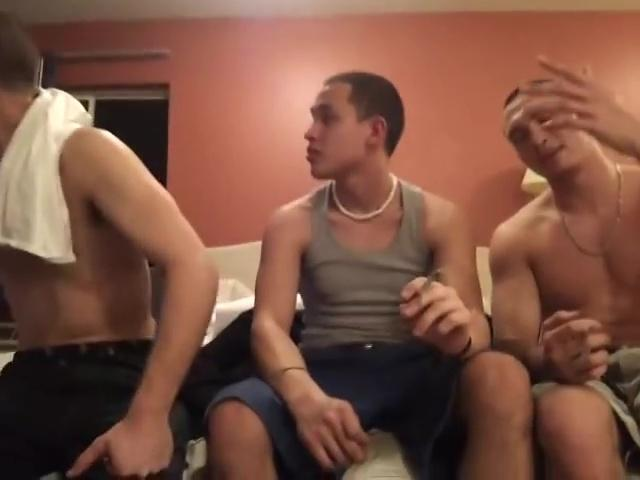cigarette: (411, 273, 439, 298)
